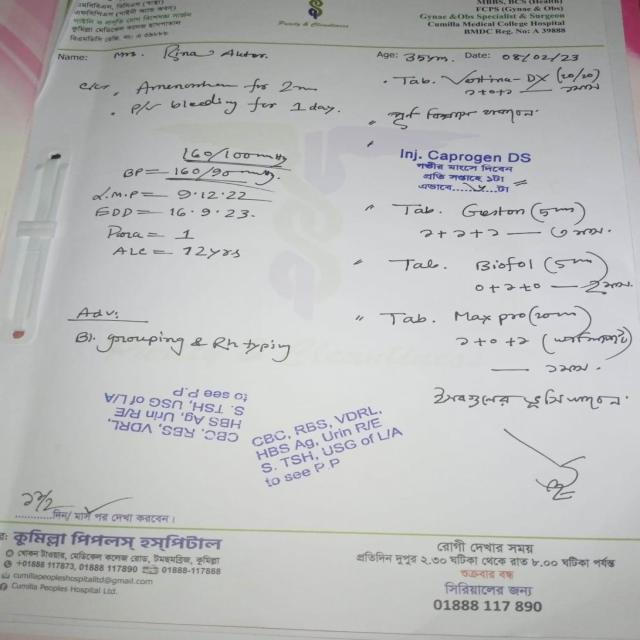Biofol: (472, 253, 542, 278)
Geston: (457, 201, 528, 223)
Maxpro: (447, 301, 531, 331)
Vertina DX: (436, 65, 553, 86)
